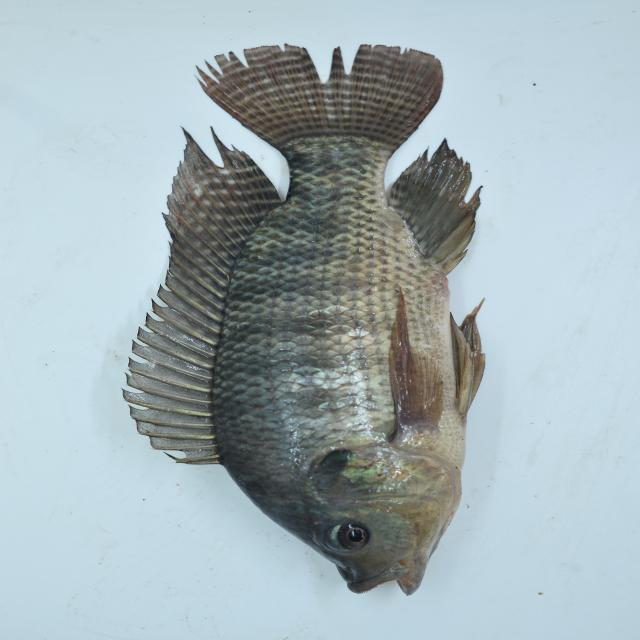Healthy Fish: (118, 34, 492, 599)
